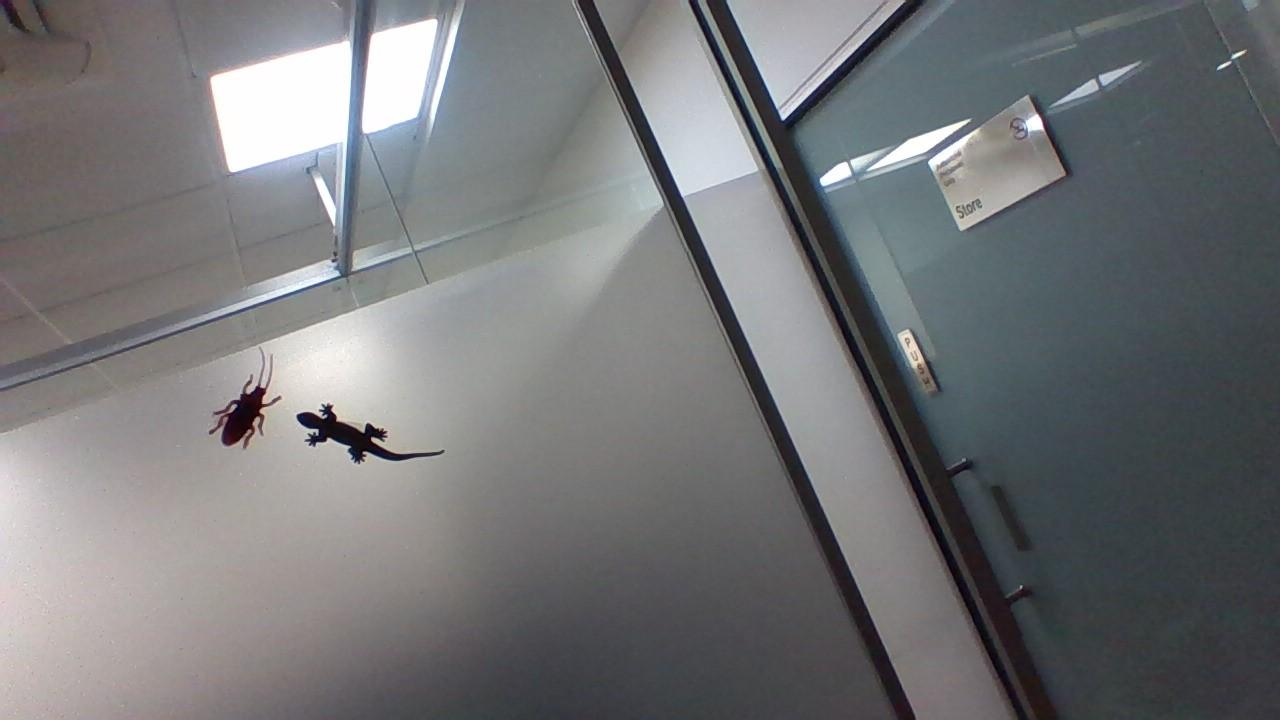cockroach: (203, 342, 285, 464)
lizard: (292, 395, 452, 481)
